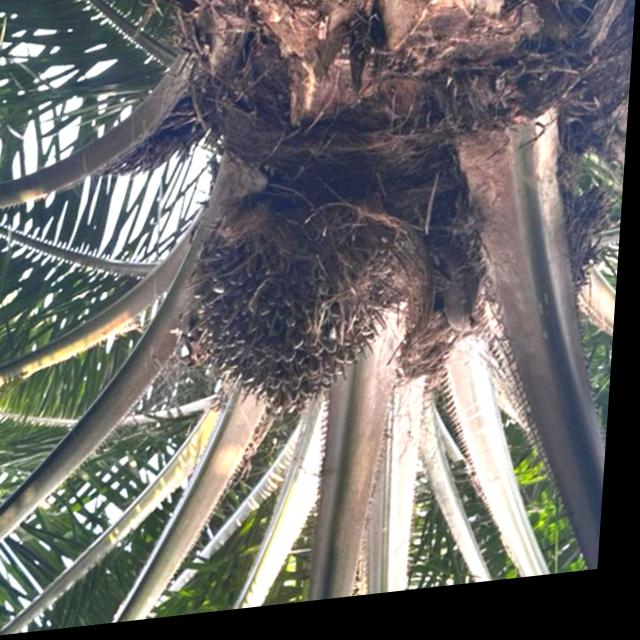almost: (179, 185, 417, 441)
